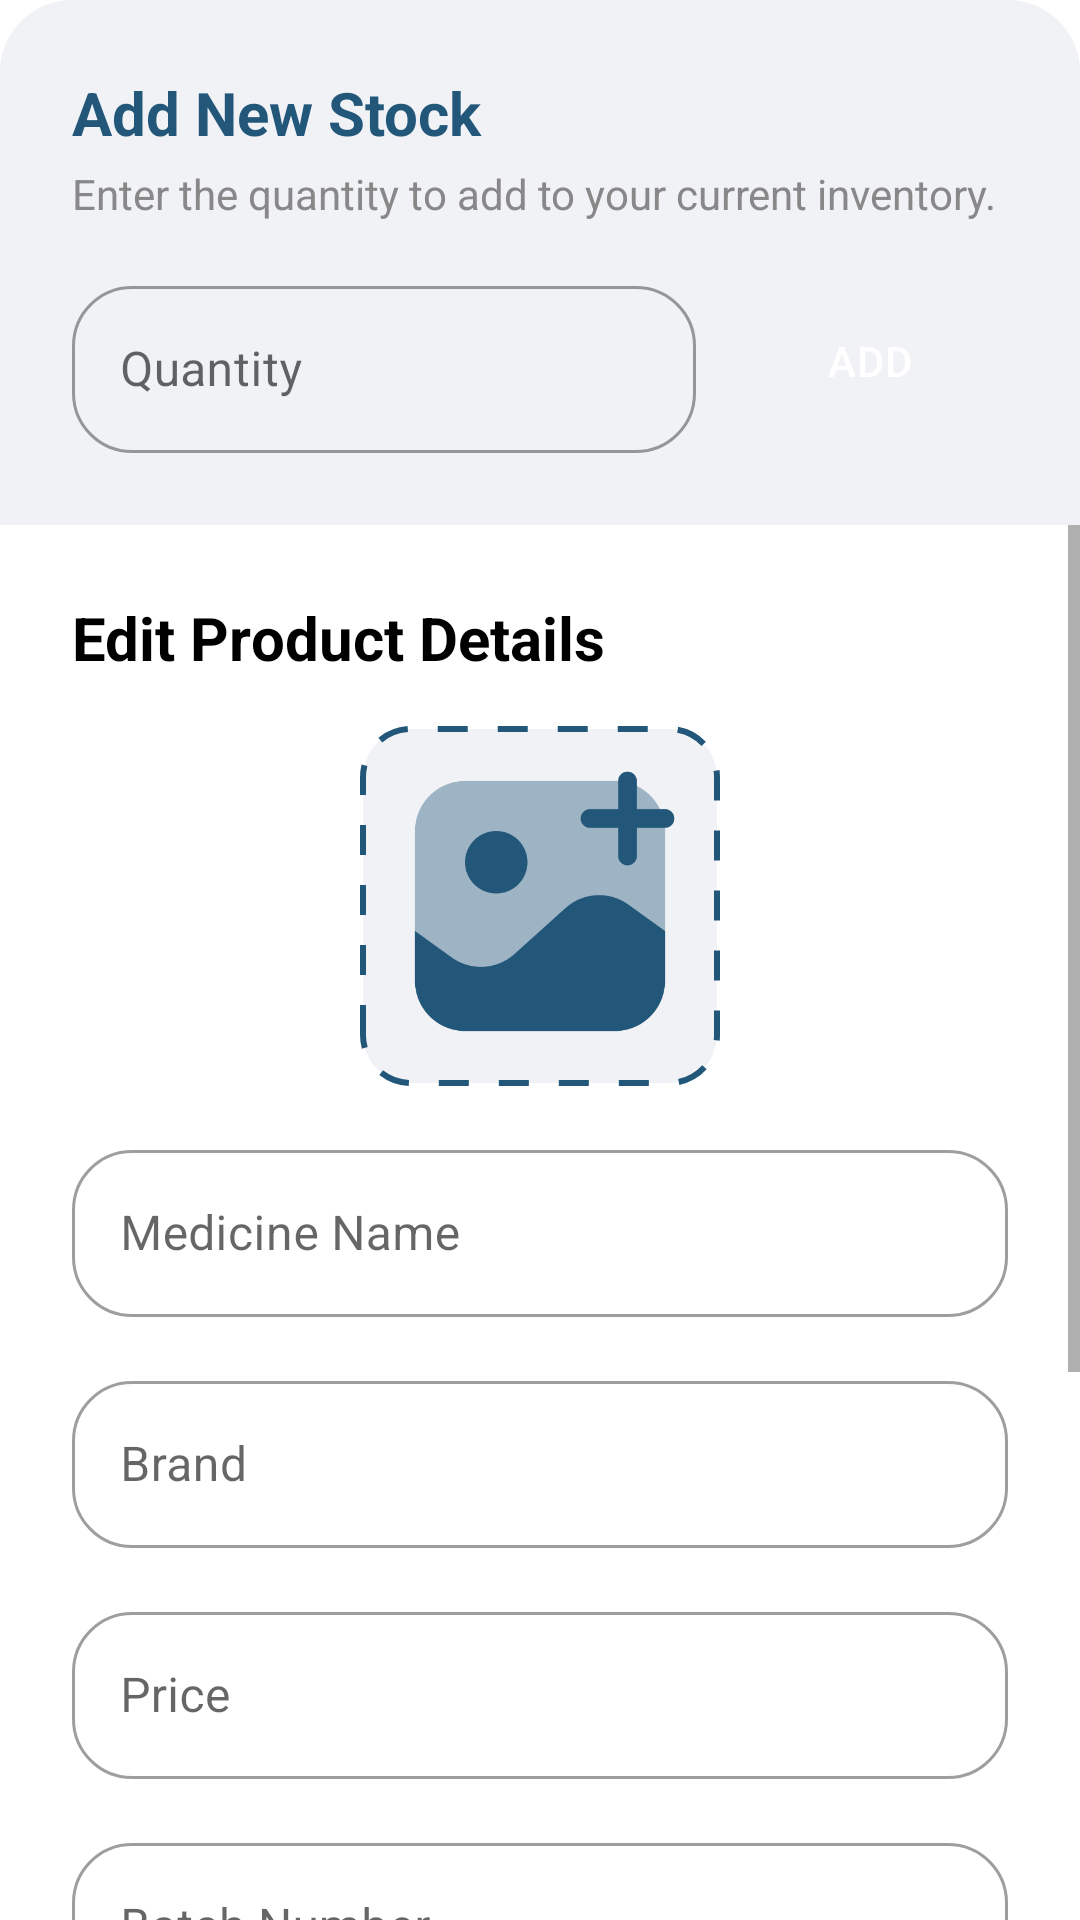

Where icons sit on this 1080x1920 app screen, as (x1, y1, x2, y2):
add photo: (360, 726, 720, 1086)
